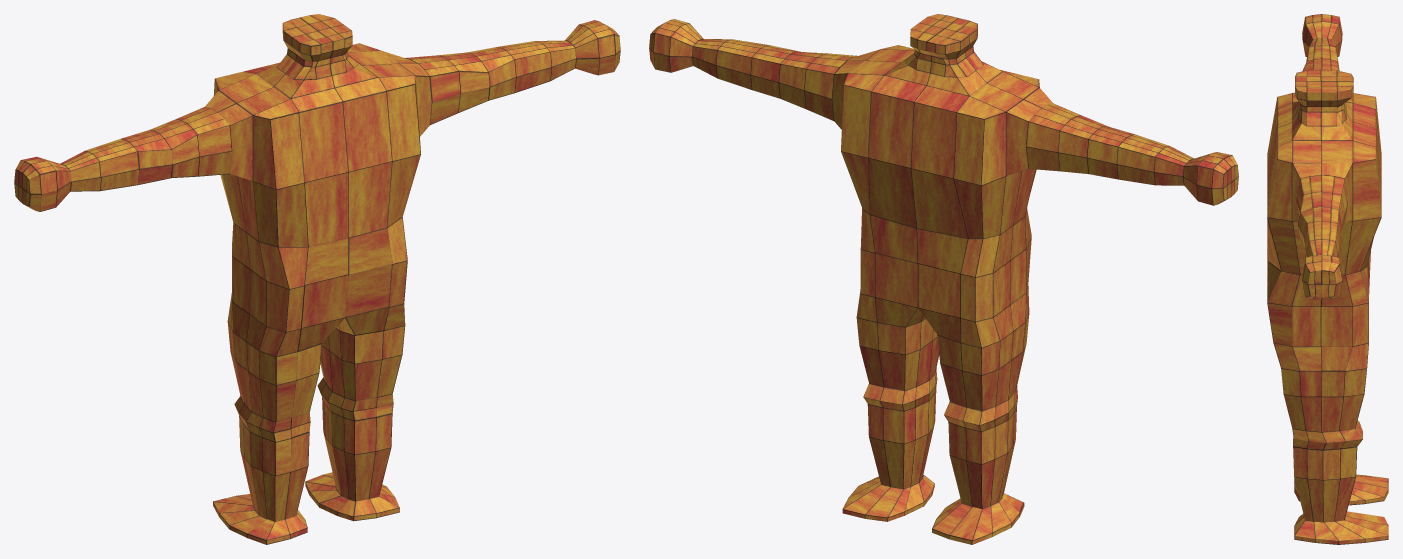
File: NewTallEnemy.fbx
3 renders of one model, left to right at view 1: azimuth 30°, elevation 25°; view 2: azimuth 150°, elevation 25°; view 3: azimuth 270°, elevation 25°, orthographic. The views are drawn at different scales.
Parts seen in each view (by area): view 1: Cube; view 2: Cube; view 3: Cube.
Boxes of the visible parts, left/top/right/bottom form: Cube: left=14, top=14, right=620, bottom=544; Cube: left=649, top=14, right=1238, bottom=544; Cube: left=1267, top=14, right=1388, bottom=544.
Bounding box in the file's own units: 4.69 × 3.69 × 0.9479.
Materials: 1 (1 with a texture image).
